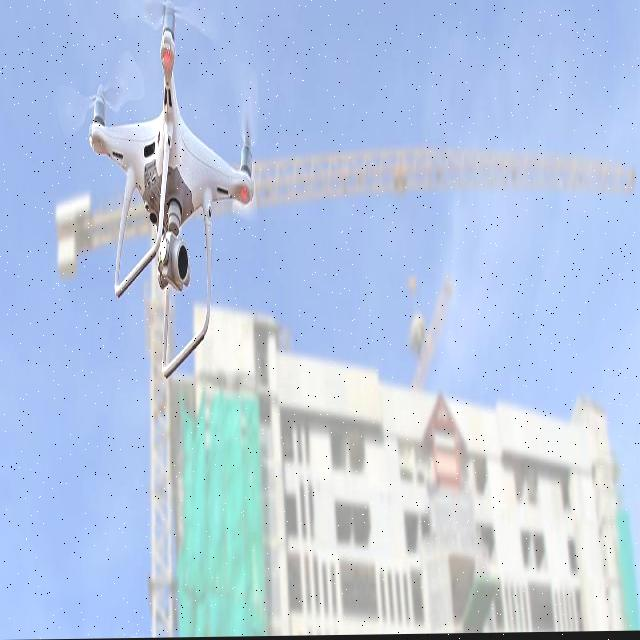drone: (84, 29, 284, 360)
